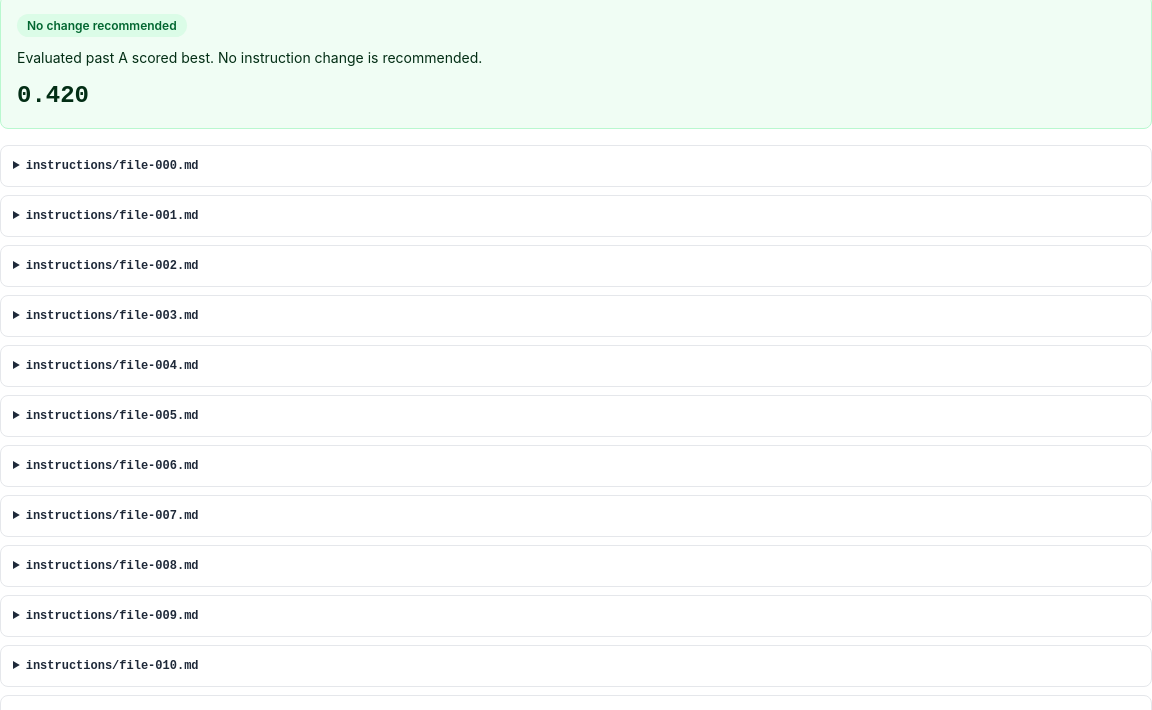
ReflectionReview › loads large baseline snapshots in bounded pages and mounts content only when opened
Click the heading "instructions/file-000.md" at (112, 166), box x1=26 y1=159 x2=198 y2=173
(page scrolled)
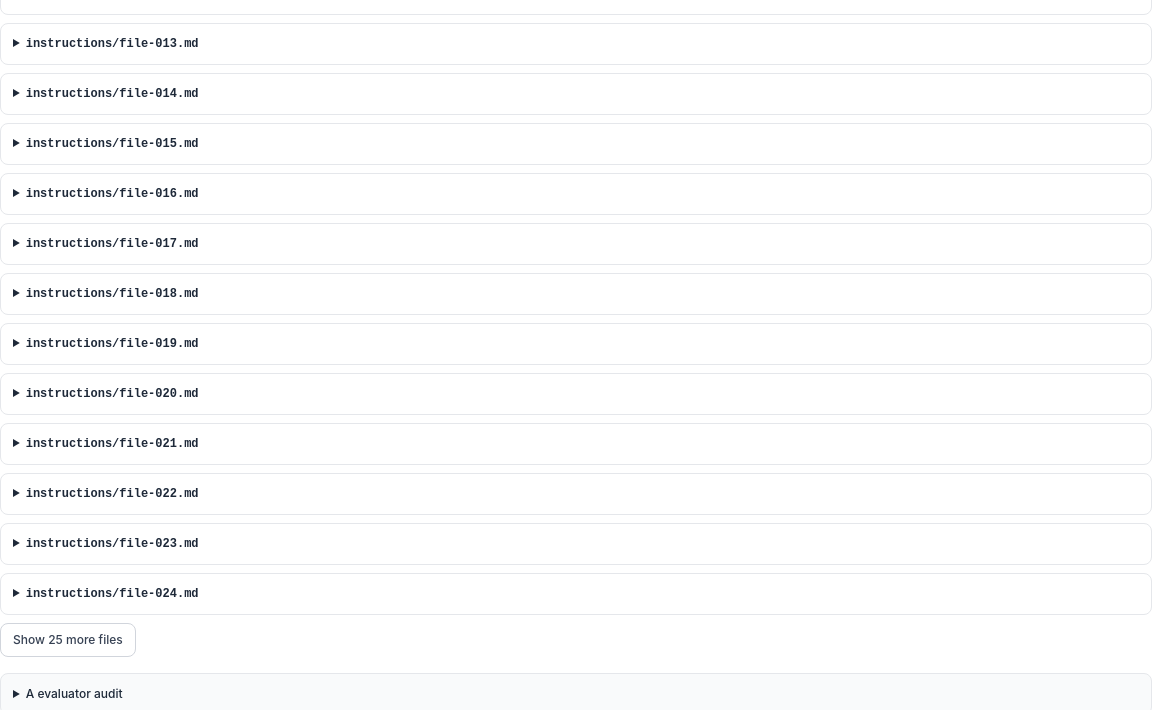
Click the button "Show 25 more files" at (68, 640), box x1=0 y1=623 x2=136 y2=657
(page scrolled)
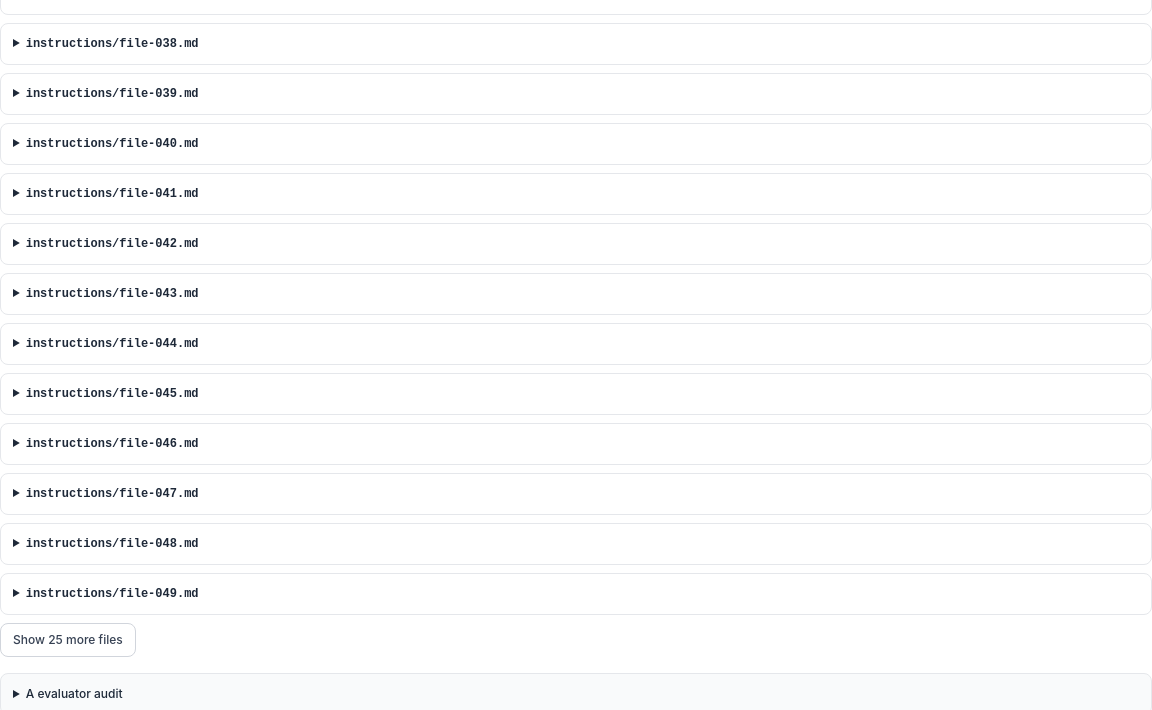
Result: the heading "instructions/file-049.md" is shown at x1=26 y1=587 x2=198 y2=601
